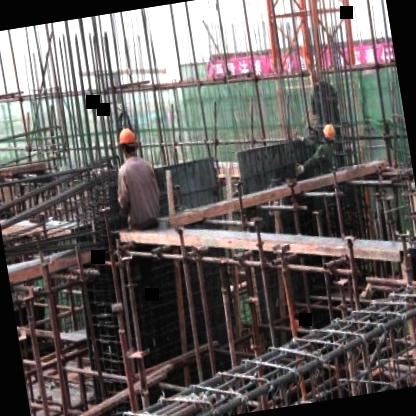helmet: (114, 123, 138, 161), (319, 118, 338, 152)
